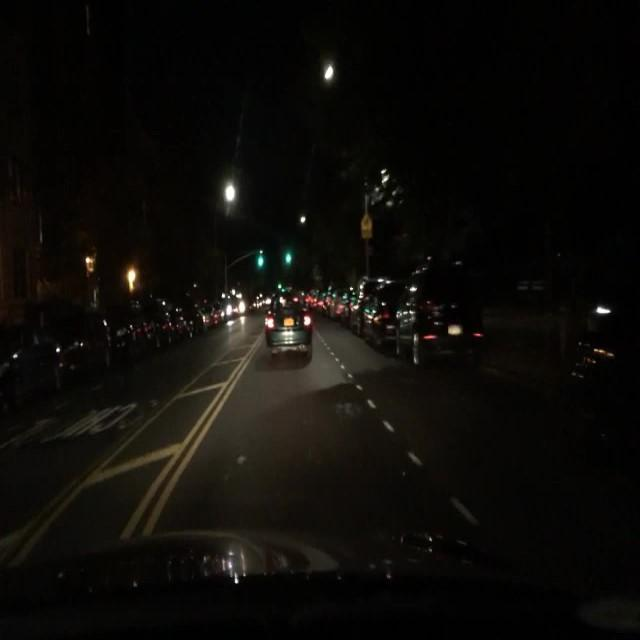normal: (406, 301, 487, 371), (264, 299, 313, 356)
